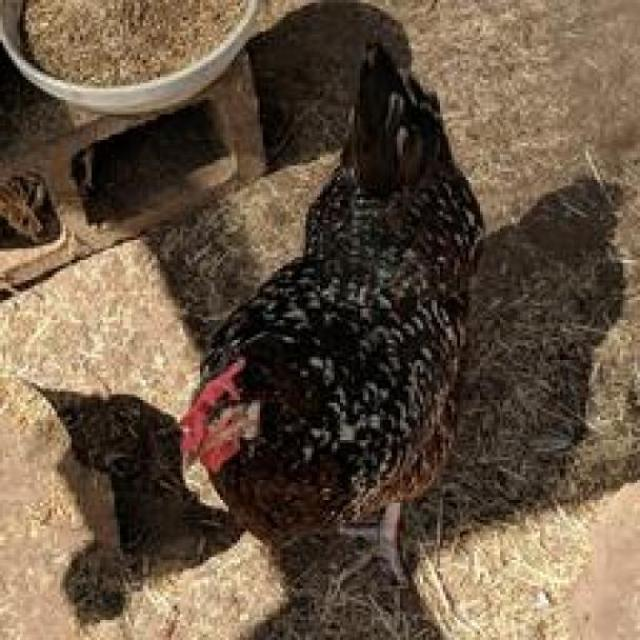Chicken: (111, 43, 531, 605)
